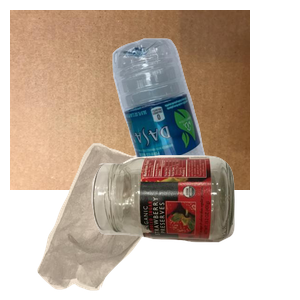cardboard: (10, 10, 250, 190)
glass: (89, 153, 300, 300)
plastic: (110, 36, 300, 216)
trash: (35, 140, 203, 300)
